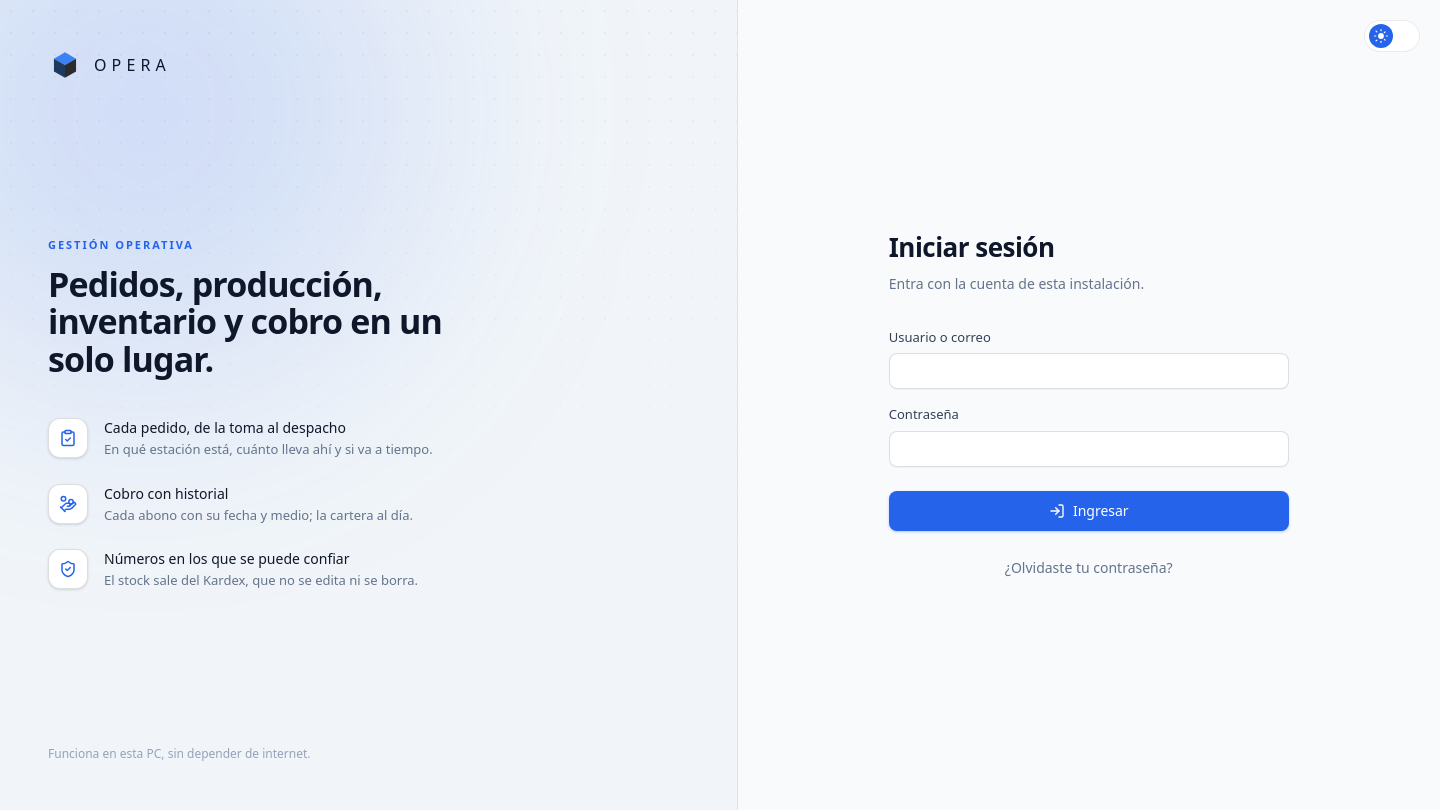
Scenario: LoginPage › shows a specific message on 401 (wrong credentials)
Type "admin@opera.local" into the field labelled "Usuario o correo".
click(1089, 371); type("admin@opera.local")  # box x1=889 y1=353 x2=1289 y2=389
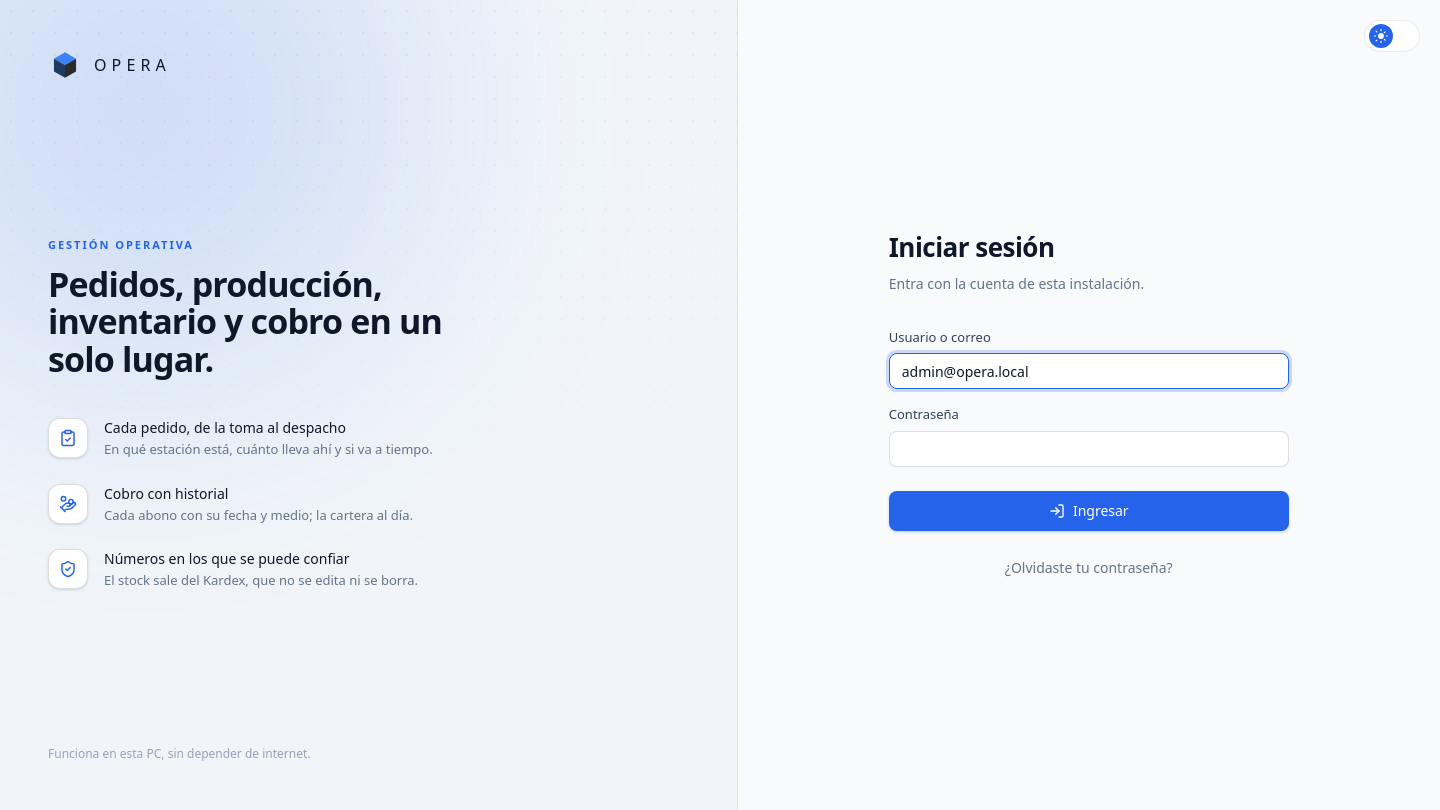
Type "wrong-password" into the password field labelled "Contraseña".
click(1089, 449); type("wrong-password")  # box x1=889 y1=431 x2=1289 y2=467
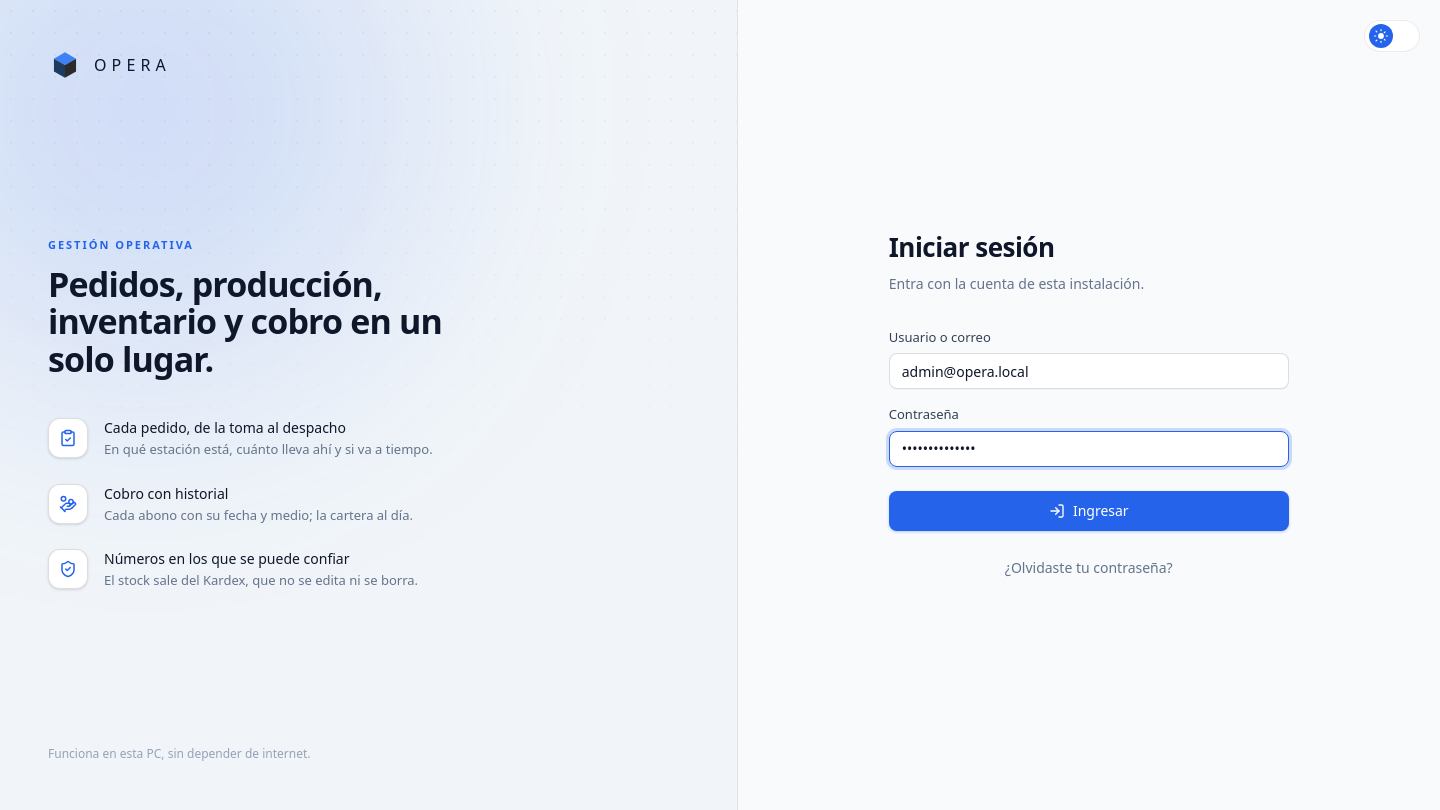
Click the button "Ingresar".
click(1089, 511)  # box x1=889 y1=491 x2=1289 y2=531
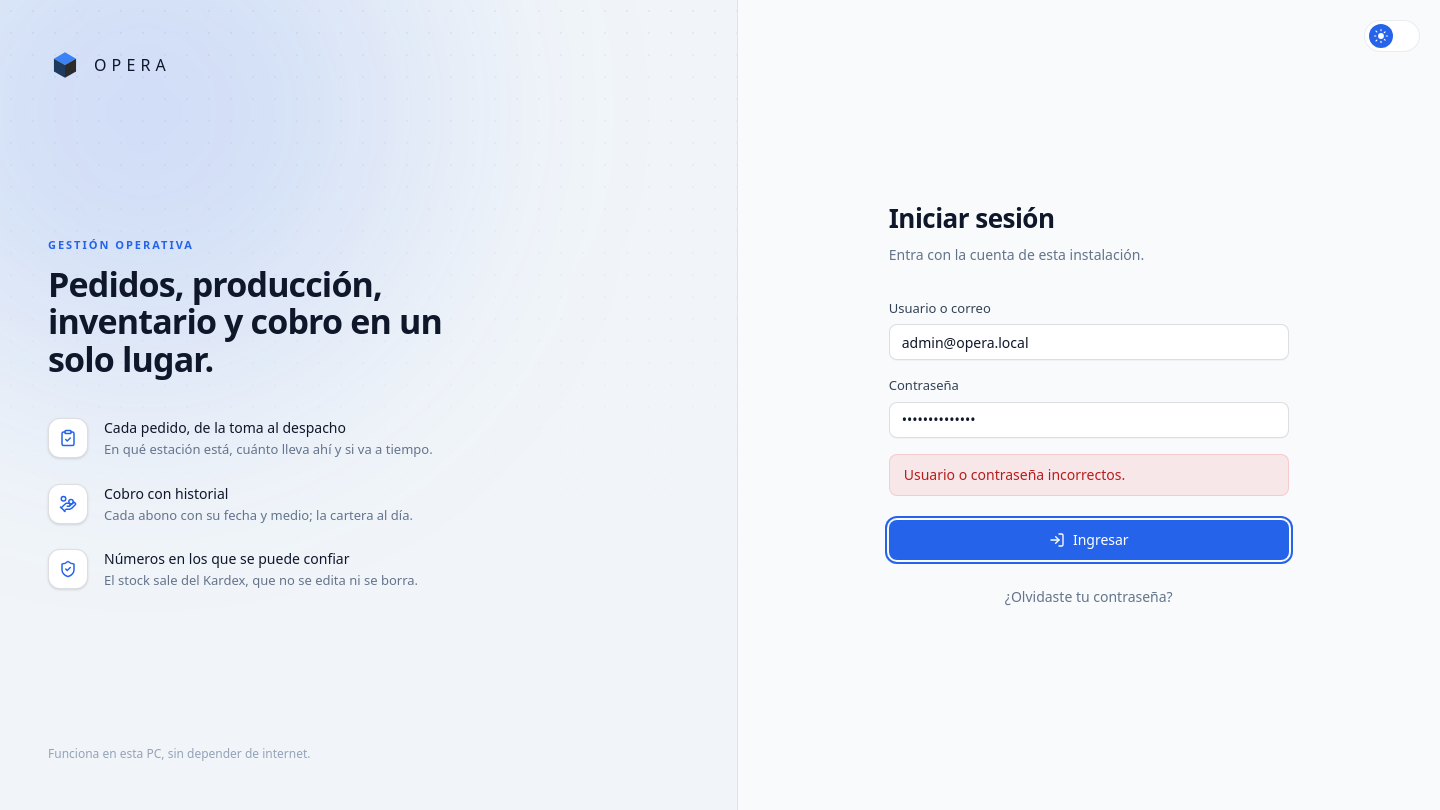
Now the text "Usuario o contraseña incorrectos." is shown, box x1=889 y1=454 x2=1289 y2=496
